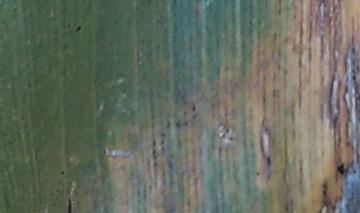tarspot: (335, 161, 346, 176), (264, 154, 272, 168), (68, 198, 73, 213), (150, 138, 158, 147), (344, 137, 351, 147), (320, 188, 328, 196), (75, 24, 82, 33), (349, 45, 356, 54), (150, 148, 158, 155), (174, 120, 181, 128), (190, 104, 197, 112), (182, 119, 189, 127), (159, 131, 167, 138), (158, 138, 166, 145), (254, 169, 261, 177), (66, 22, 73, 29), (26, 81, 33, 88), (59, 168, 66, 175), (101, 147, 107, 155), (151, 161, 159, 167), (351, 74, 357, 82), (330, 205, 337, 211), (225, 126, 230, 134), (160, 146, 166, 152), (153, 154, 158, 160), (221, 133, 226, 139), (352, 168, 357, 174), (229, 136, 234, 141)
